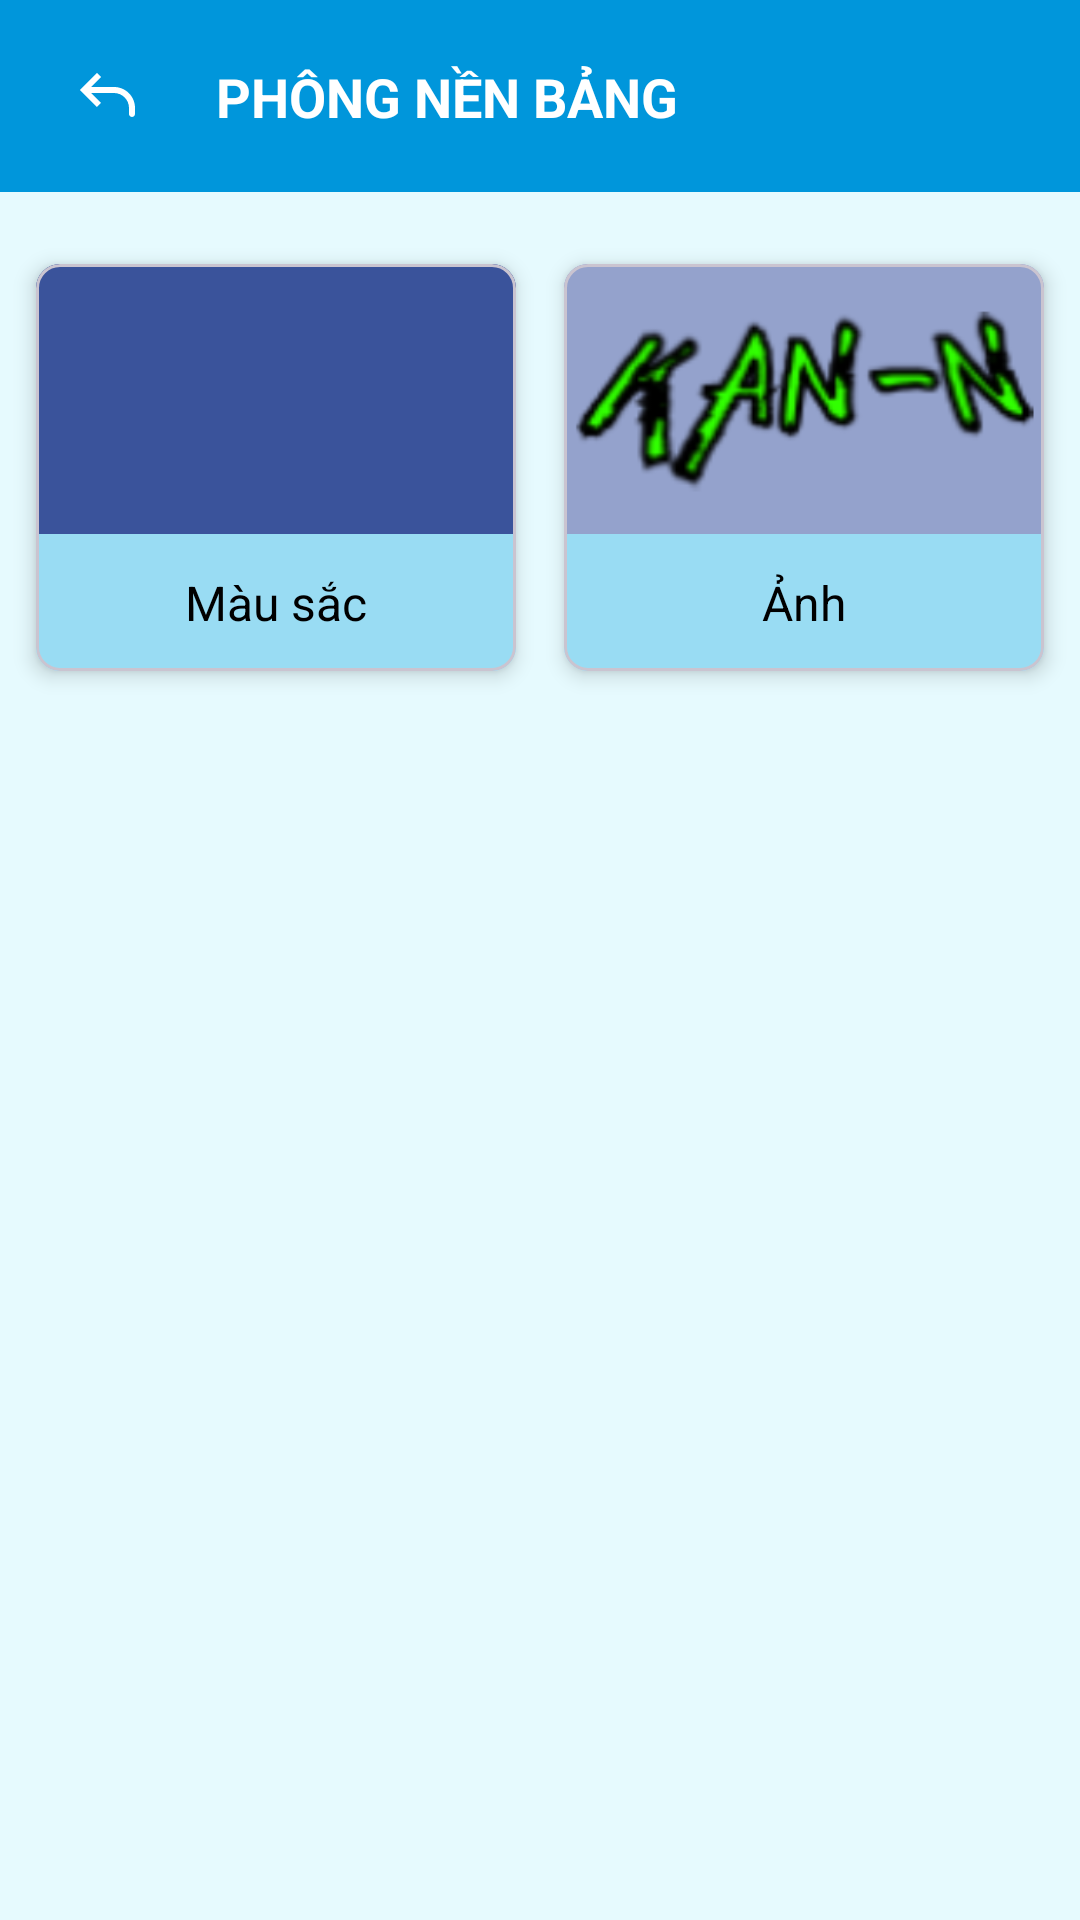

Where to tap for icons on this 1080×1920 app screen, as [x,y]:
Quay lại: [107,95]
